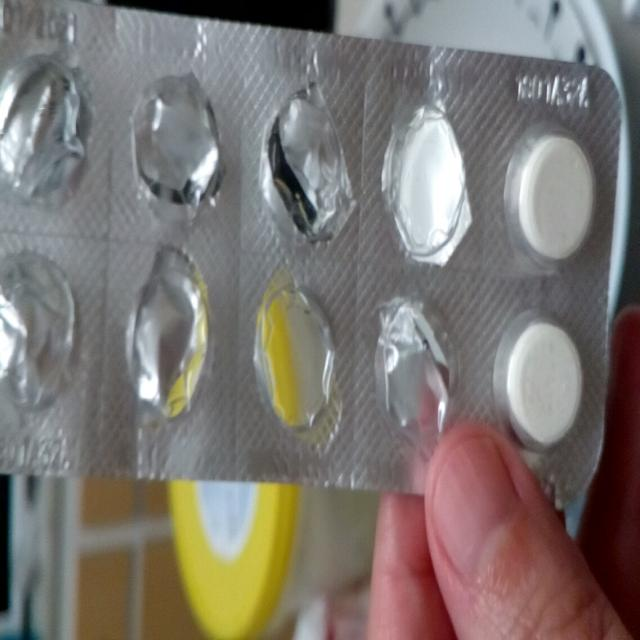Empty: (124, 254, 223, 432), (259, 84, 362, 250), (378, 86, 472, 266), (248, 268, 342, 446), (0, 246, 93, 424), (125, 66, 225, 222), (0, 54, 89, 218), (367, 286, 456, 450)
Pill: (506, 114, 604, 268), (496, 308, 594, 458)
